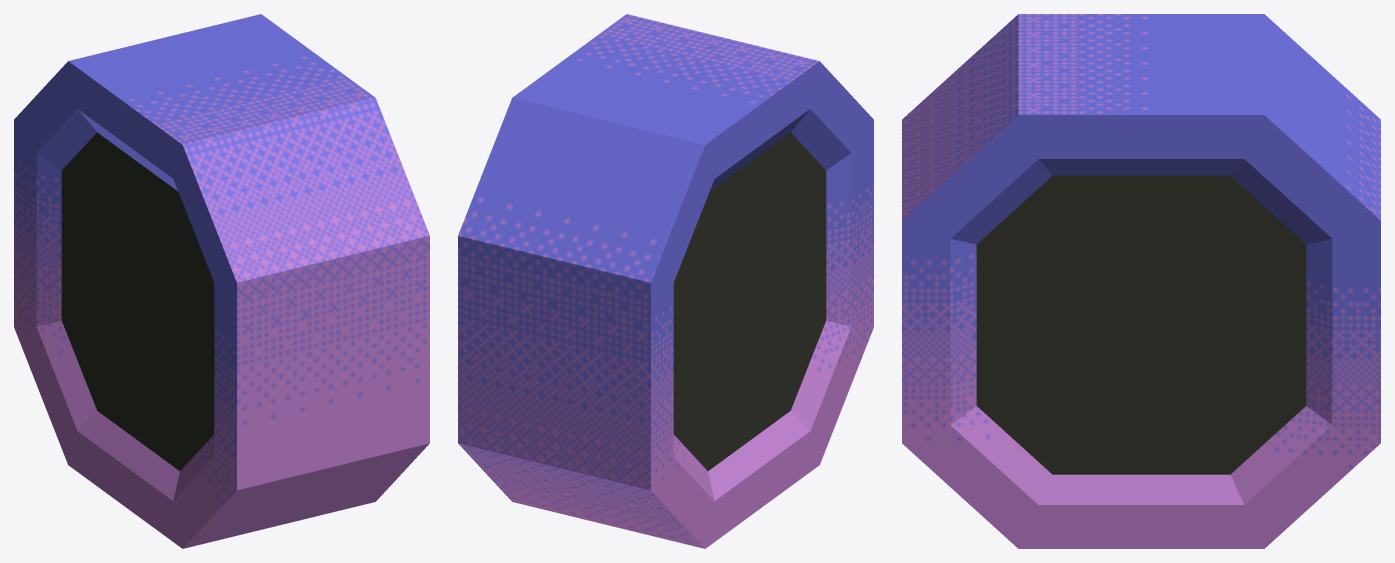
The model's file is GunModule.fbx.
The picture shows the model from 3 angles, left to right: view 1: azimuth 30°, elevation 25°; view 2: azimuth 150°, elevation 25°; view 3: azimuth 270°, elevation 25°; orthographic projection. The views are drawn at different scales.
Visible parts, largest first — view 1: GunModule; view 2: GunModule; view 3: GunModule.
Part boxes in pixels (x1=…): GunModule: x1=14, y1=14, x2=429, y2=548; GunModule: x1=458, y1=14, x2=873, y2=548; GunModule: x1=902, y1=14, x2=1380, y2=548.
Size of the model in its own units: 2 by 2 by 1.
Materials: 2 (2 with a texture image).
